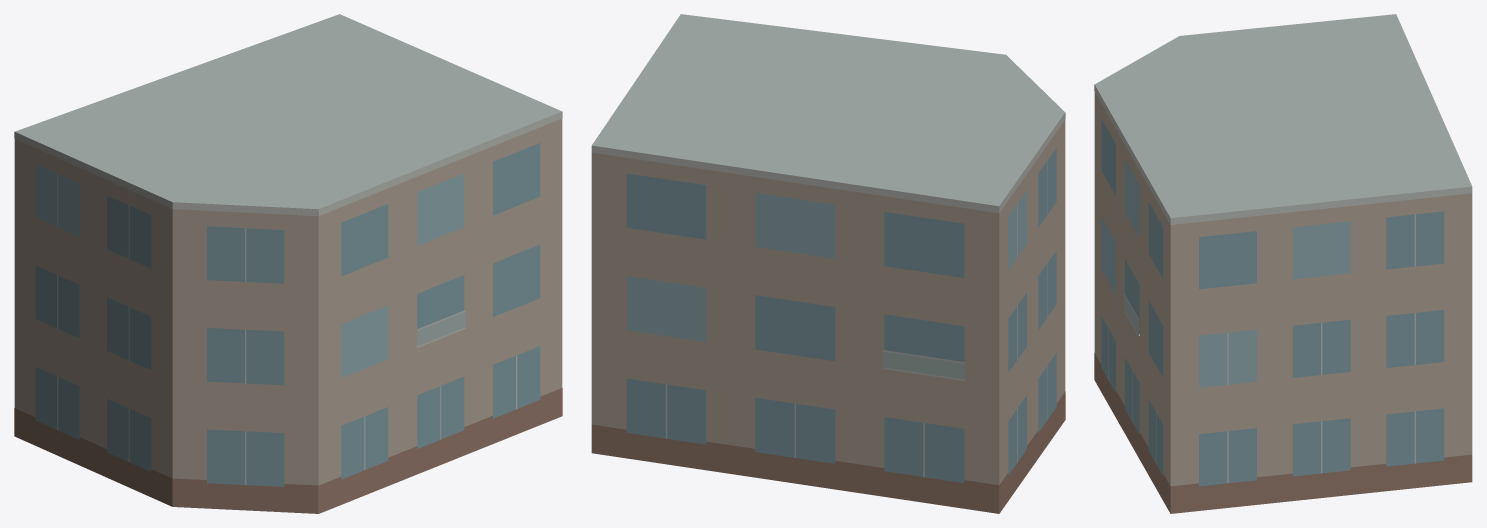
File: survey-upis-32839501.glb
3 views of the same model, side by side, from view 1: azimuth 30°, elevation 25°; view 2: azimuth 150°, elevation 25°; view 3: azimuth 270°, elevation 25° (orthographic). The views are drawn at different scales.
Parts seen in each view (by area): view 1: survey-upis-32839501.tmp; view 2: survey-upis-32839501.tmp; view 3: survey-upis-32839501.tmp.
Part boxes in pixels (x1,y1,x2,y2): survey-upis-32839501.tmp: [14, 14, 562, 513]; survey-upis-32839501.tmp: [591, 14, 1065, 513]; survey-upis-32839501.tmp: [1094, 14, 1472, 513].
Bounding box in the file's own units: 15.87 × 10.7 × 12.41.
